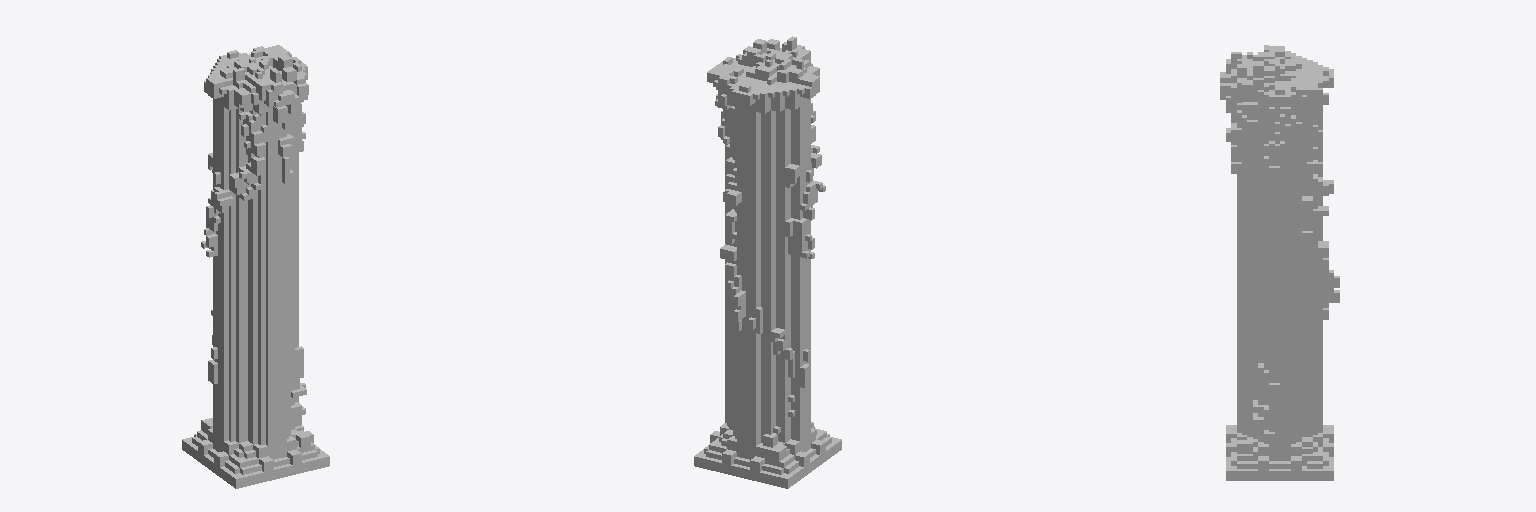
File: Pillar NotBroken.obj
3 renders of one model, left to right at view 1: azimuth 30°, elevation 25°; view 2: azimuth 150°, elevation 25°; view 3: azimuth 270°, elevation 25°, orthographic.
Visible parts, largest first — view 1: object 1; view 2: object 1; view 3: object 1.
Boxes of the visible parts, x1,y1,x2,y2 form: object 1: [182, 45, 329, 488]; object 1: [694, 36, 841, 488]; object 1: [1220, 45, 1339, 480].
Size of the model in its own units: 2 by 8.2 by 2.2.